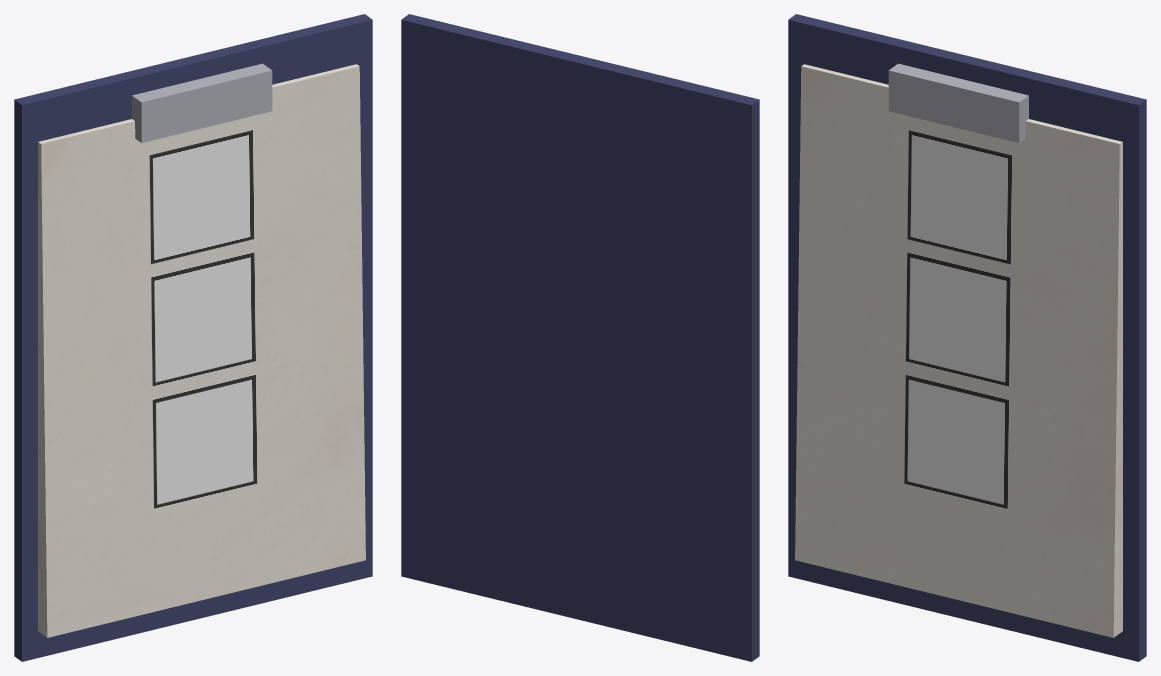
File: ClipBoard.fbx
3 renders of one model, left to right at view 1: azimuth 30°, elevation 25°; view 2: azimuth 150°, elevation 25°; view 3: azimuth 330°, elevation 25°, orthographic.
Visible parts, largest first — view 1: ClipBoard_board; view 2: ClipBoard_board; view 3: ClipBoard_board.
Boxes of the visible parts, x1=… form: ClipBoard_board: x1=14, y1=14, x2=372, y2=661; ClipBoard_board: x1=401, y1=14, x2=759, y2=661; ClipBoard_board: x1=788, y1=14, x2=1146, y2=661.
Size of the model in its own units: 0.6591 by 1 by 0.0566.
